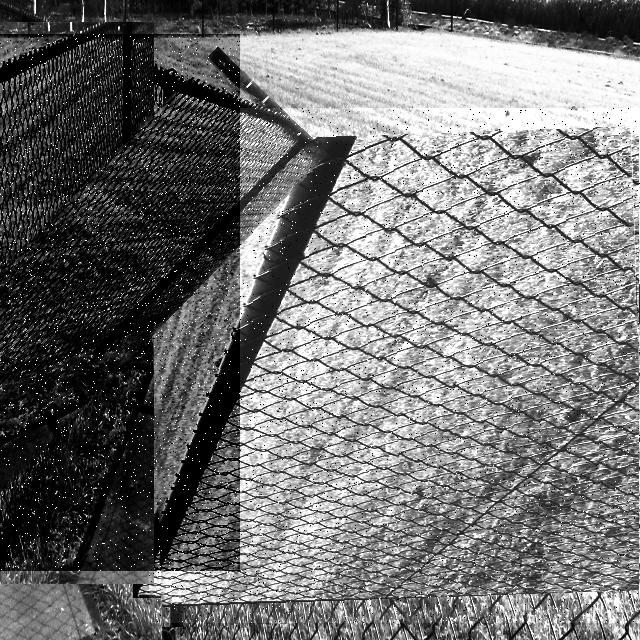fences: (149, 108, 640, 623), (0, 34, 240, 571)
